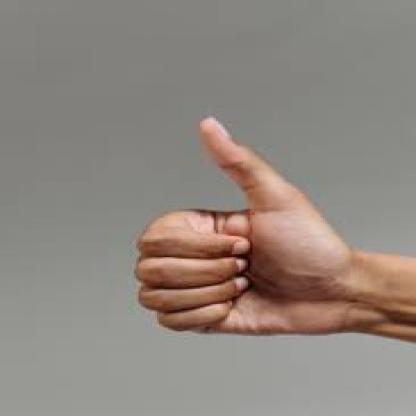thumb_up: (127, 112, 360, 340)
